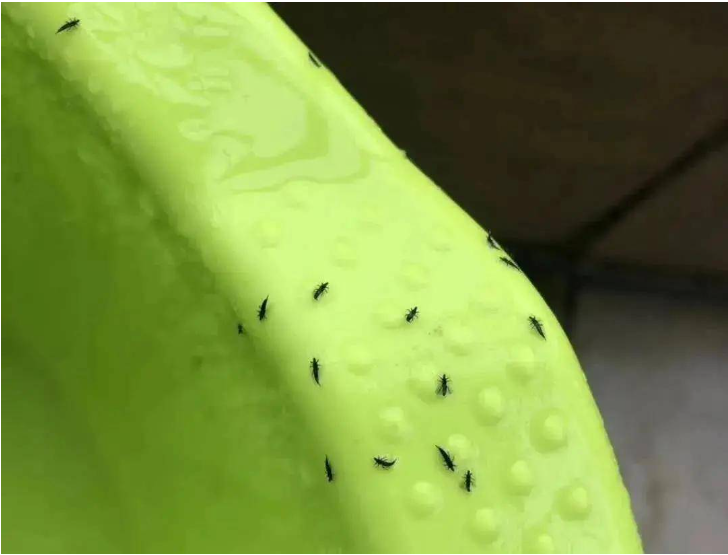thrips: (434, 443, 460, 472), (52, 15, 80, 36), (529, 314, 548, 340), (372, 454, 400, 470), (321, 453, 336, 482), (255, 294, 271, 321), (308, 357, 323, 384), (462, 468, 478, 493), (437, 373, 454, 396), (484, 228, 500, 252), (313, 281, 330, 302), (498, 254, 520, 270), (305, 50, 321, 66), (405, 306, 418, 323)
